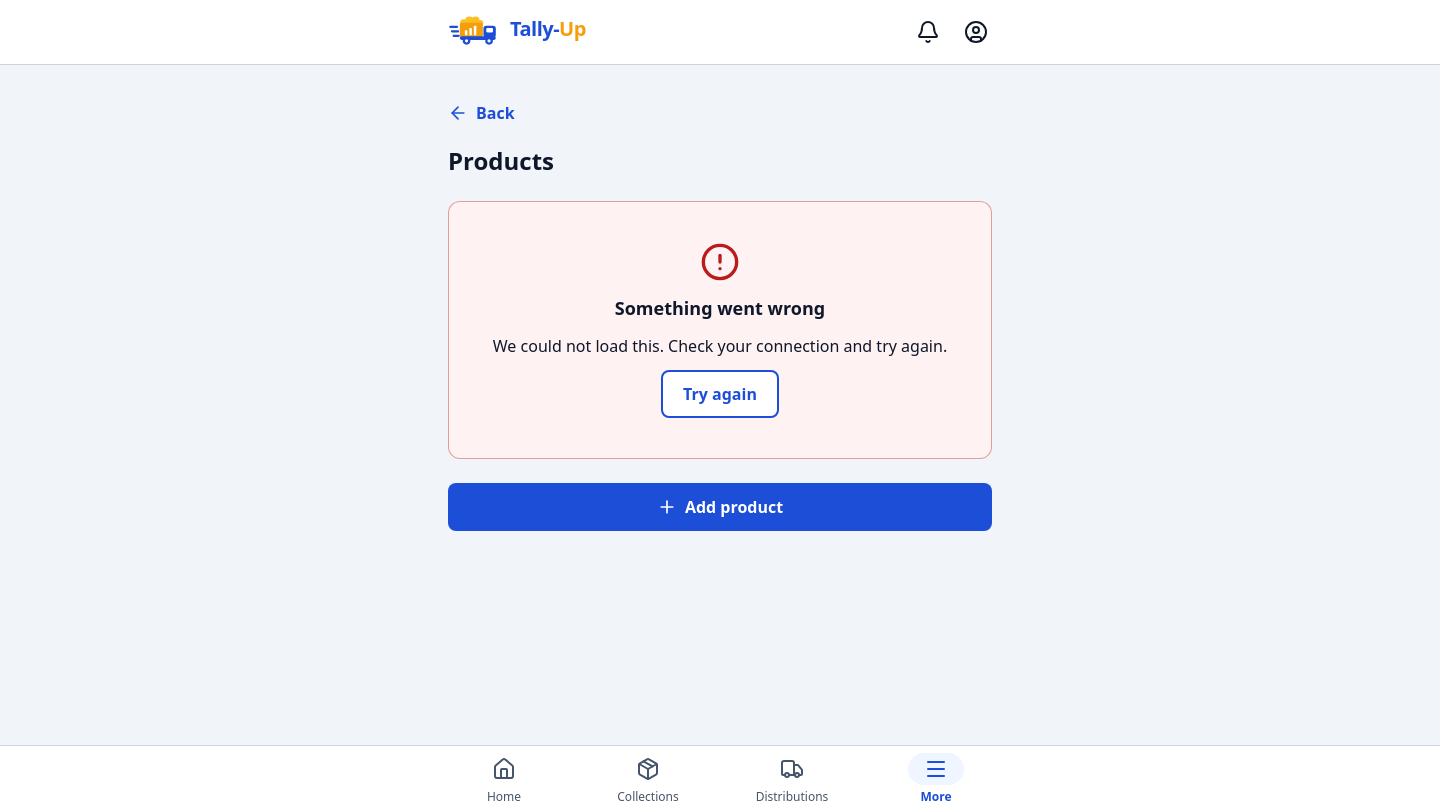
it: Products list › shows a skeleton while loading, and Try again on failure
Step 1. Click the button "Try again" → (720, 394), box [661,370,779,418]
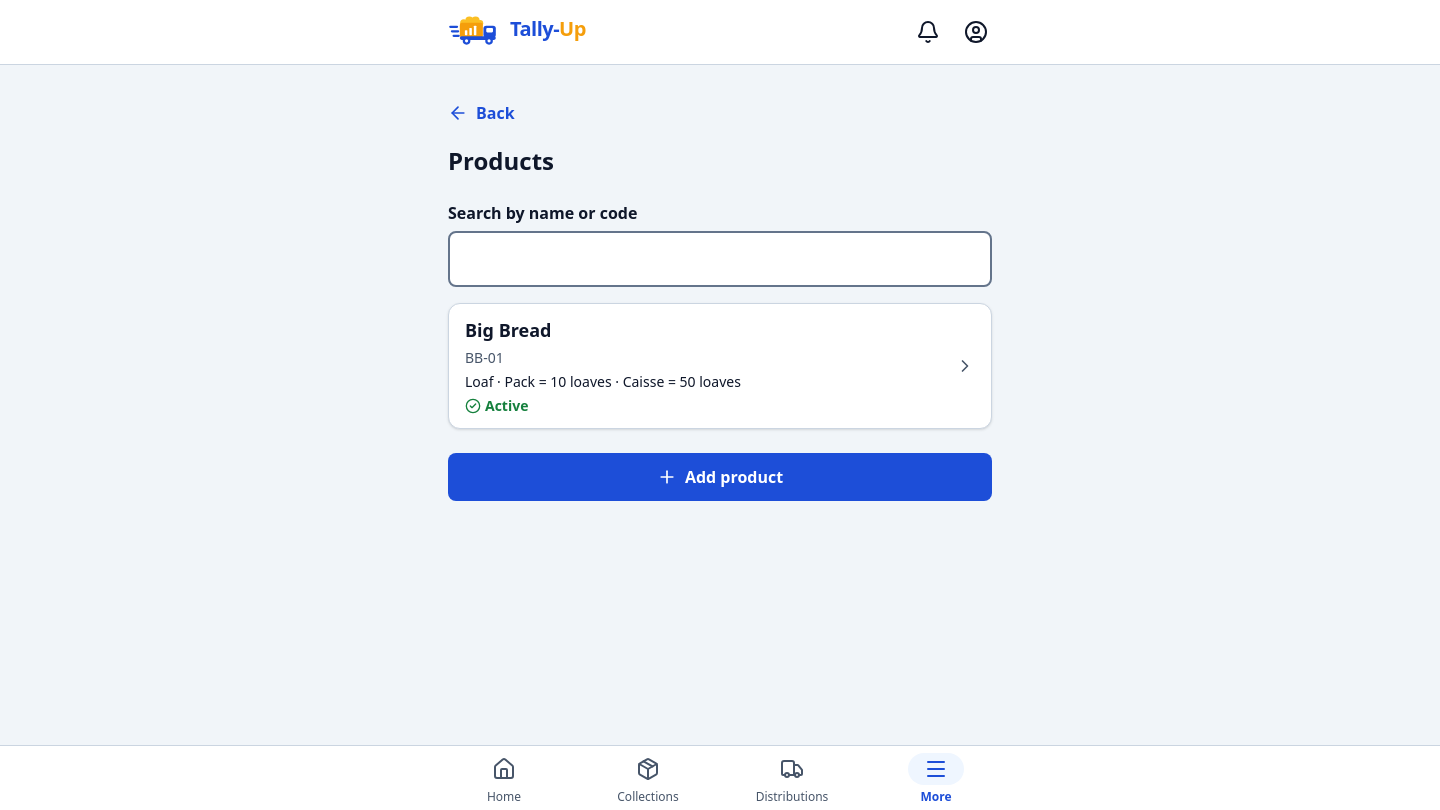
Check: the link "Big Bread" is shown, box [448,303,992,429]
